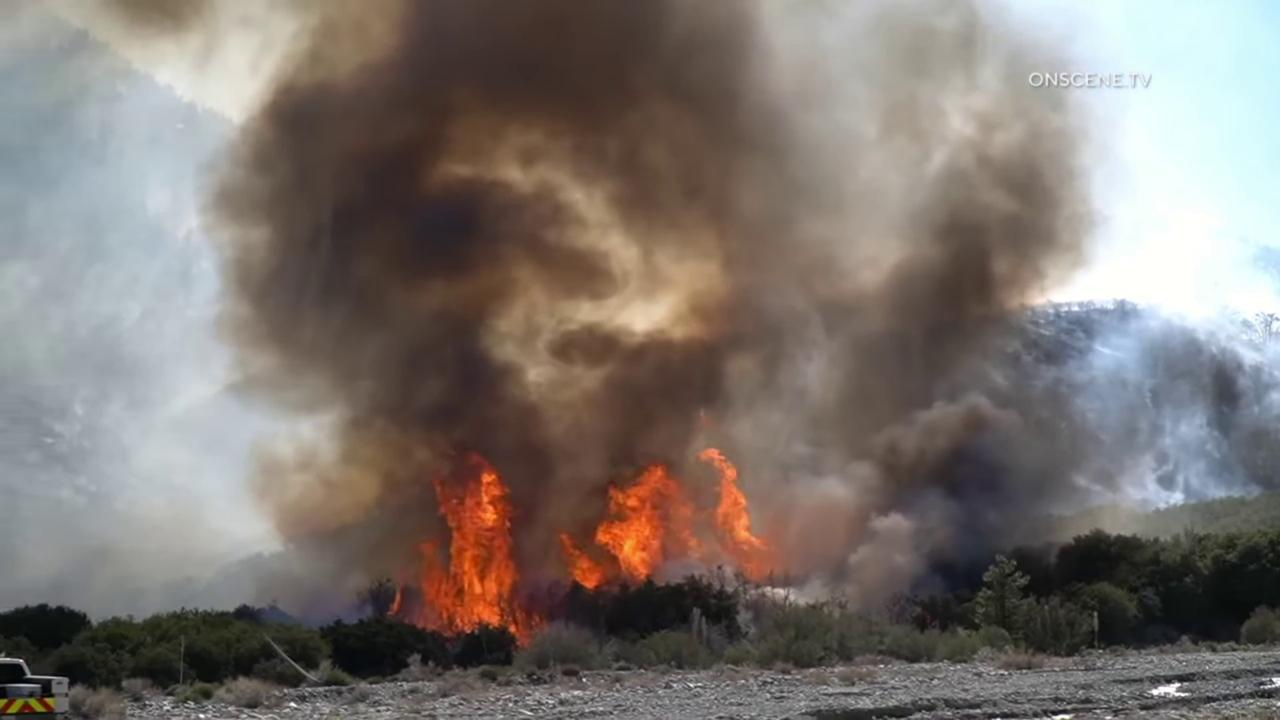fire: (559, 446, 769, 591), (415, 452, 548, 649), (385, 586, 400, 617)
smoke: (0, 0, 1280, 631)
